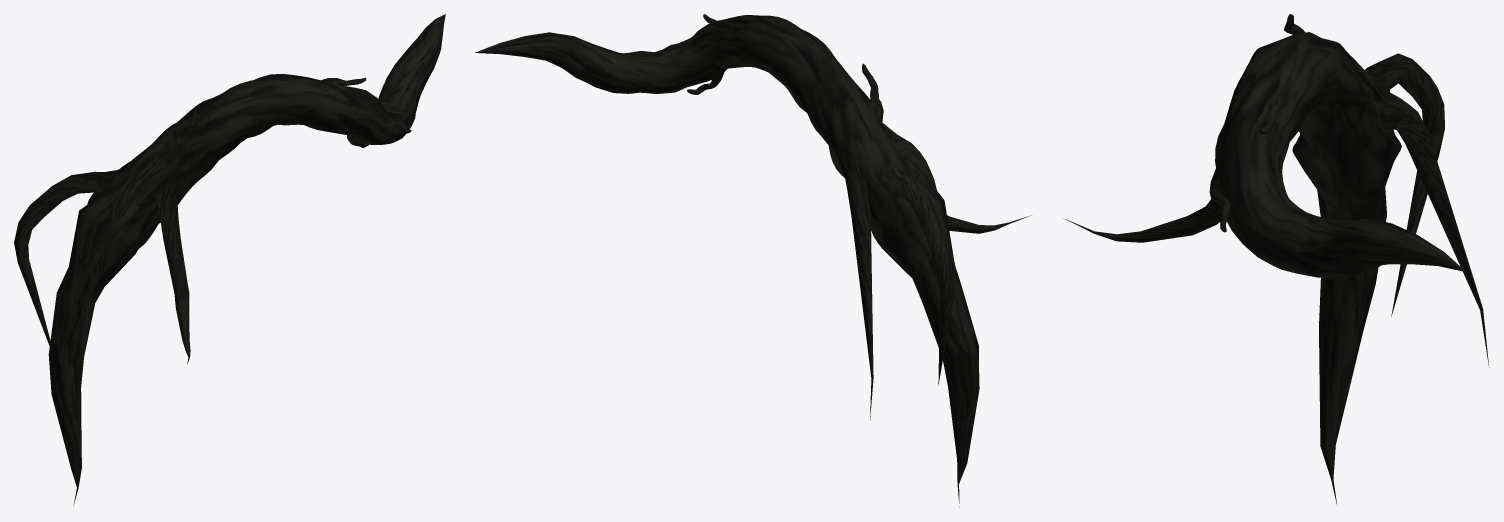
3 renders of one model, left to right at view 1: azimuth 30°, elevation 25°; view 2: azimuth 150°, elevation 25°; view 3: azimuth 270°, elevation 25°, orthographic. The views are drawn at different scales.
Parts seen in each view (by area): view 1: SM_SwampVines_05_LOD0; view 2: SM_SwampVines_05_LOD0; view 3: SM_SwampVines_05_LOD0.
Boxes of the visible parts, x1,y1,x2,y2 form: SM_SwampVines_05_LOD0: (14, 14, 445, 506); SM_SwampVines_05_LOD0: (475, 14, 1031, 507); SM_SwampVines_05_LOD0: (1063, 14, 1489, 505).
Size of the model in its own units: 3.25 by 2.8 by 1.83.
Materials: 1 (1 with a texture image).
